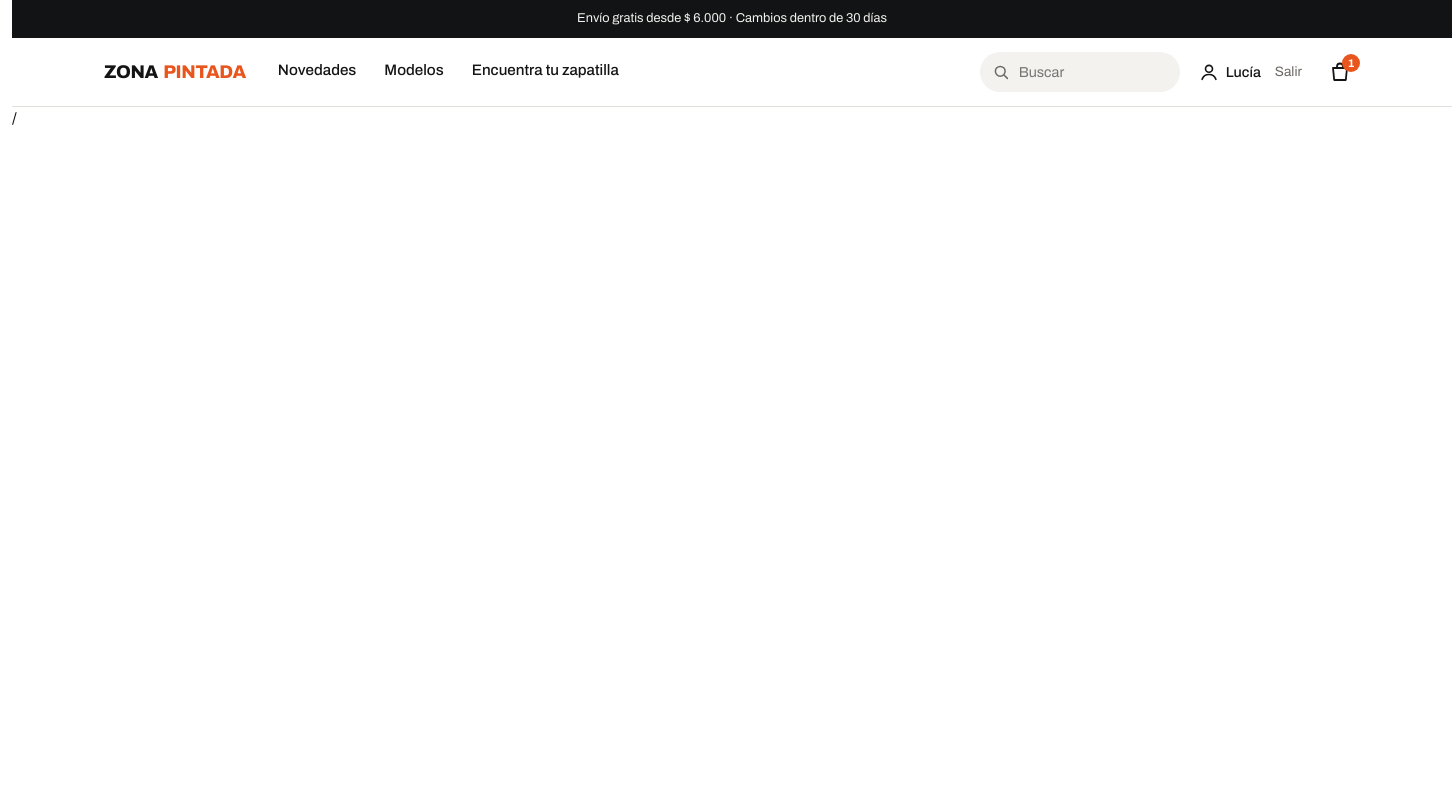
Test case: encabezado › salir pide al backend borrar la cookie y olvida al usuario
The width and height of the screenshot is (1452, 810).
Click the button "Salir". click: [1288, 72]
box: [1275,61,1302,82]
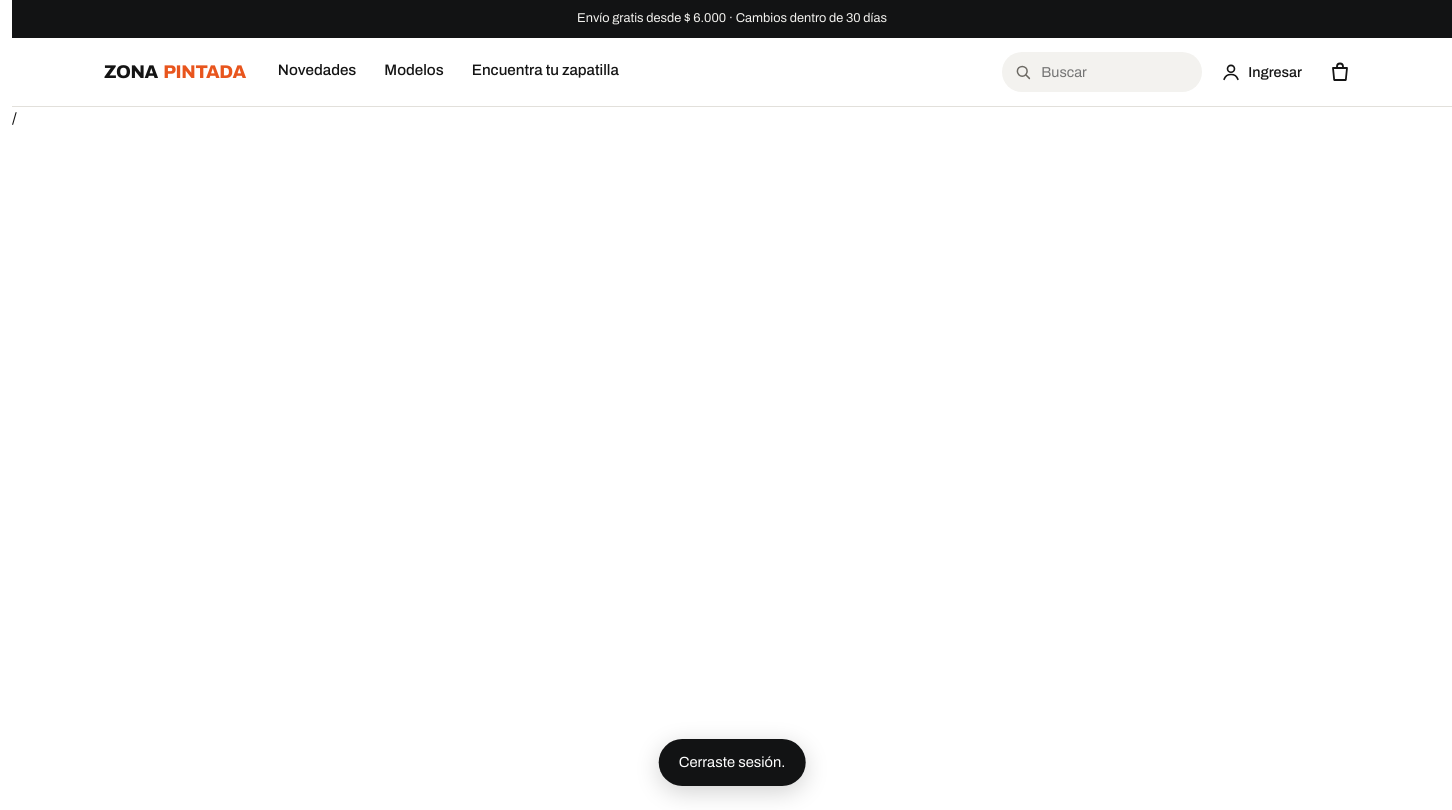
Now the text "Cerraste sesión." is shown, box [659,739,805,786]
Now the link "Ingresar" is shown, box [1220,61,1302,83]
